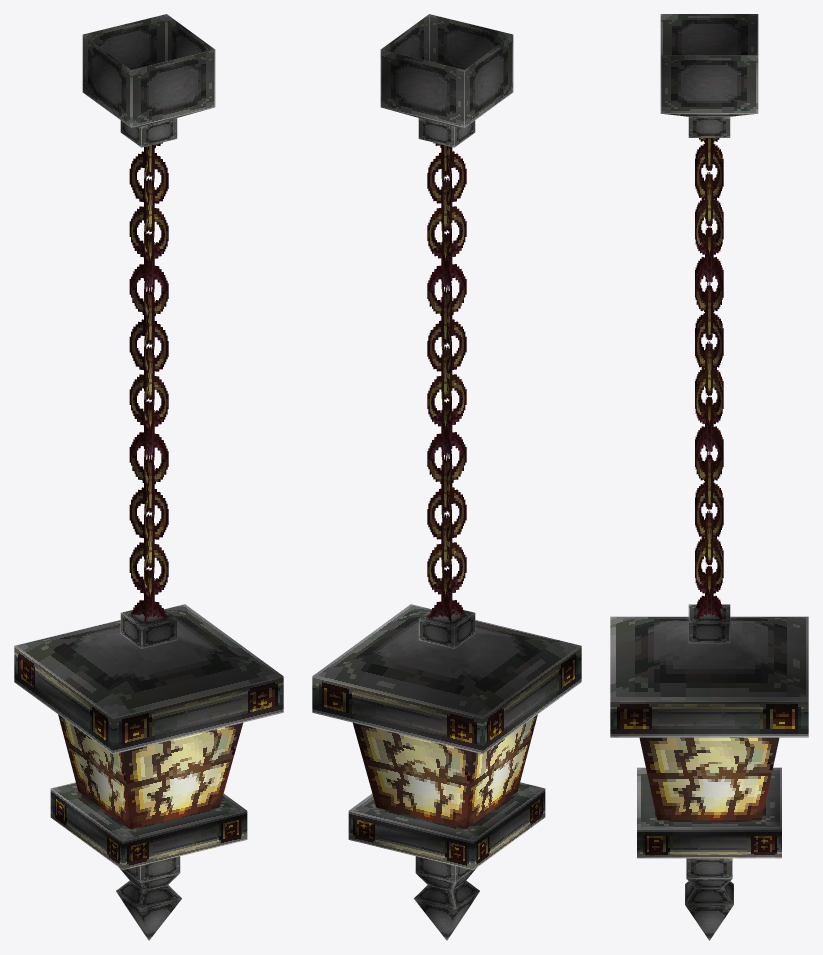
File: generalhanginglanternlong.obj
3 renders of one model, left to right at view 1: azimuth 30°, elevation 25°; view 2: azimuth 150°, elevation 25°; view 3: azimuth 270°, elevation 25°, orthographic.
Visible parts, largest first — view 1: 1, 0; view 2: 1, 0; view 3: 1, 0.
Boxes of the visible parts, <box> form: 1: <box>14,14,283,940</box>; 0: <box>58,714,242,829</box>; 1: <box>312,14,581,940</box>; 0: <box>353,714,537,829</box>; 1: <box>610,14,808,940</box>; 0: <box>639,737,779,820</box>.
Bounding box in the file's own units: 0.7106 × 3.58 × 0.7106.
Materials: 2 (2 with a texture image).
